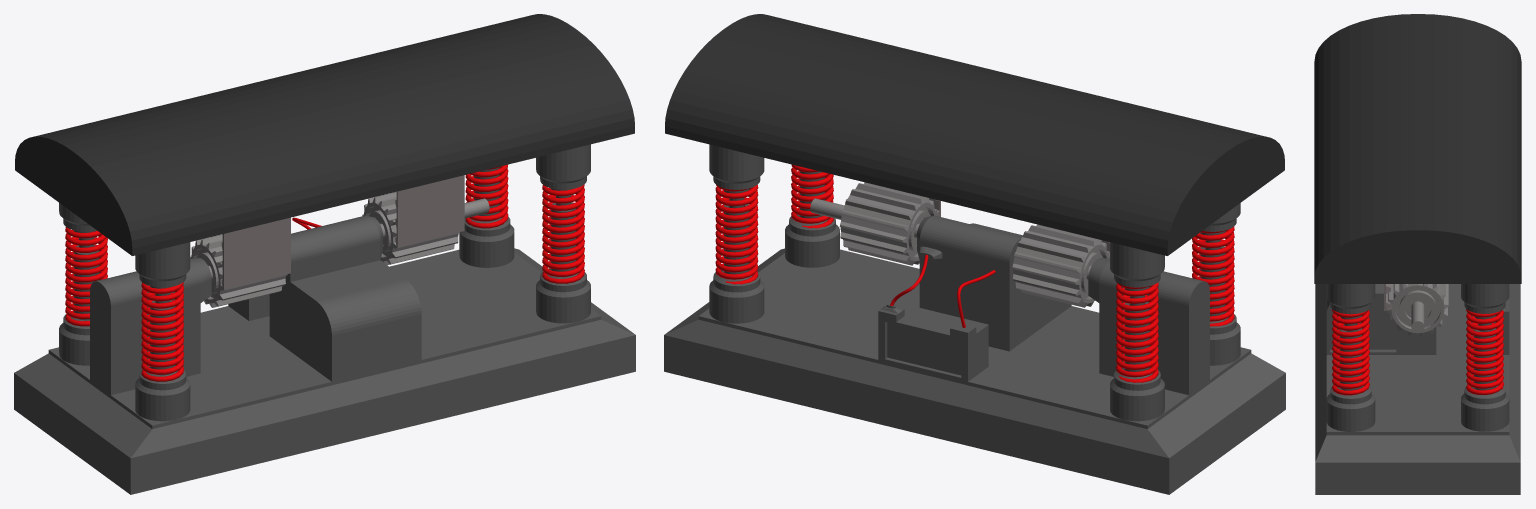
3 renders of one model, left to right at view 1: azimuth 30°, elevation 25°; view 2: azimuth 150°, elevation 25°; view 3: azimuth 270°, elevation 25°, orthographic. The views are drawn at different scales.
Parts seen in each view (by area): view 1: Plane, Plane.001, Cylinder.009, Circle.002, Circle, Cylinder.004, Cylinder, Circle.003, Cylinder.003, Cylinder.005, Cylinder.001, Circle.001 (+1 smaller); view 2: Plane, Plane.001, Cylinder.009, Circle.003, Circle.001, Cylinder.003, Circle.002, Cylinder.007, Cylinder, Cylinder.002, Cylinder.006, Circle (+1 smaller); view 3: Plane.001, Plane, Circle, Circle.001, Cylinder.009, Cylinder, Cylinder.003, Cylinder.001, Cylinder.002.
Part boxes in pixels (bbox=[...]): Plane: bbox=[14, 215, 635, 494]; Plane.001: bbox=[15, 14, 634, 289]; Cylinder.009: bbox=[190, 192, 489, 307]; Circle.002: bbox=[141, 282, 183, 381]; Circle: bbox=[542, 184, 584, 283]; Cylinder.004: bbox=[135, 300, 190, 421]; Cylinder: bbox=[536, 202, 590, 323]; Circle.003: bbox=[65, 227, 107, 326]; Cylinder.003: bbox=[459, 167, 514, 267]; Cylinder.005: bbox=[135, 242, 190, 303]; Cylinder.001: bbox=[536, 144, 590, 205]; Circle.001: bbox=[465, 164, 508, 228]; Plane: bbox=[664, 215, 1285, 494]; Plane.001: bbox=[665, 14, 1284, 258]; Cylinder.009: bbox=[810, 182, 1109, 307]; Circle.003: bbox=[1116, 282, 1158, 382]; Circle.001: bbox=[715, 184, 758, 284]; Cylinder.003: bbox=[709, 204, 764, 323]; Circle.002: bbox=[1192, 226, 1234, 326]; Cylinder.007: bbox=[1110, 302, 1164, 421]; Cylinder: bbox=[785, 171, 839, 267]; Cylinder.002: bbox=[709, 144, 764, 208]; Cylinder.006: bbox=[1110, 242, 1164, 305]; Circle: bbox=[791, 164, 833, 228]; Plane.001: bbox=[1314, 14, 1521, 310]; Plane: bbox=[1315, 284, 1520, 494]; Circle: bbox=[1332, 309, 1369, 395]; Circle.001: bbox=[1466, 309, 1503, 394]; Cylinder.009: bbox=[1387, 284, 1448, 336]; Cylinder: bbox=[1326, 325, 1375, 431]; Cylinder.003: bbox=[1461, 328, 1509, 431]; Cylinder.001: bbox=[1326, 284, 1375, 331]; Cylinder.002: bbox=[1461, 284, 1509, 331].
Bounding box in the file's own units: 6.75 × 3.83 × 2.72.
